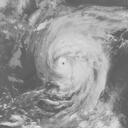cyclone: (32, 5, 120, 113)
